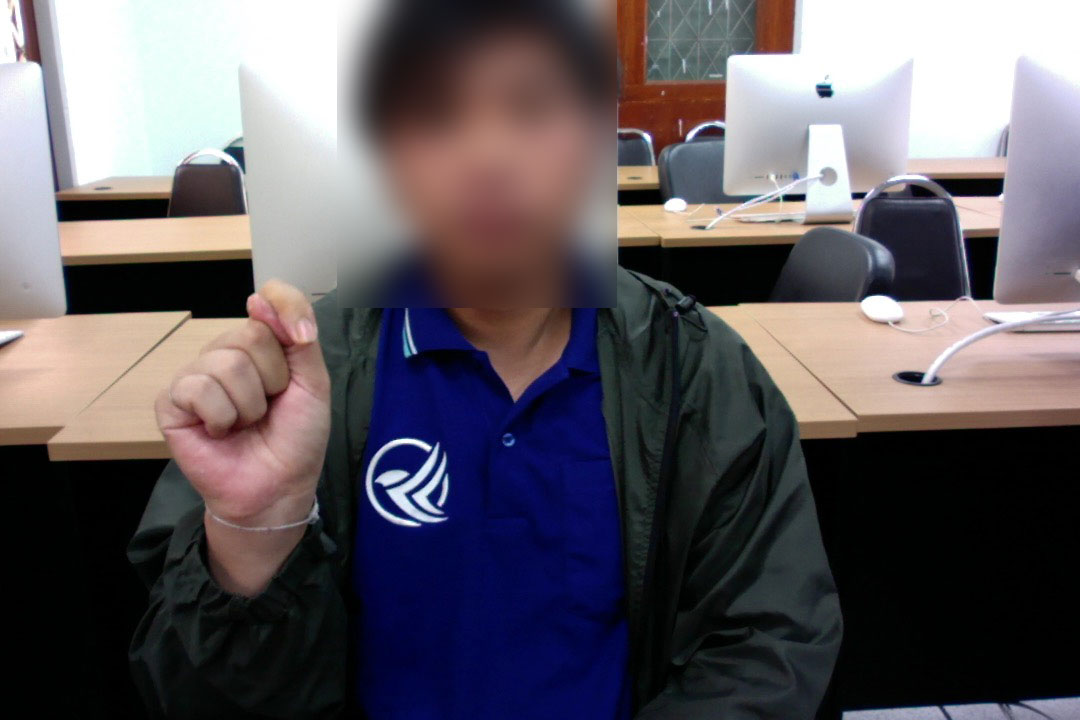tor: (149, 277, 335, 534)
